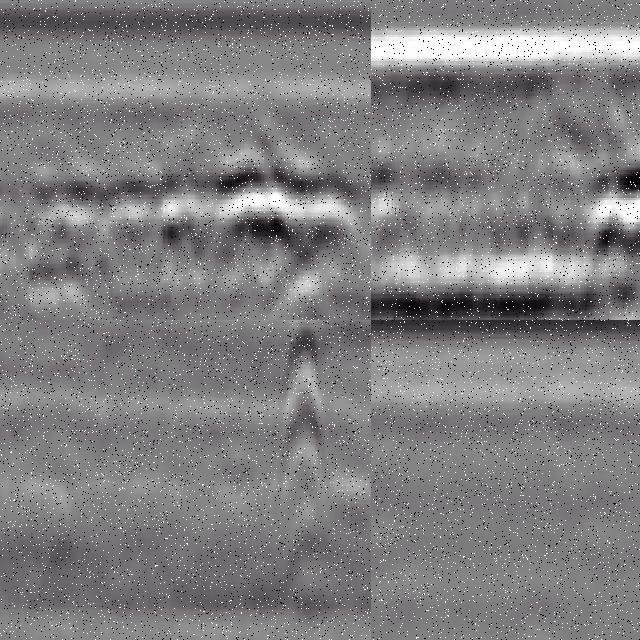crack: (281, 321, 322, 529)
loose: (1, 155, 372, 298)
